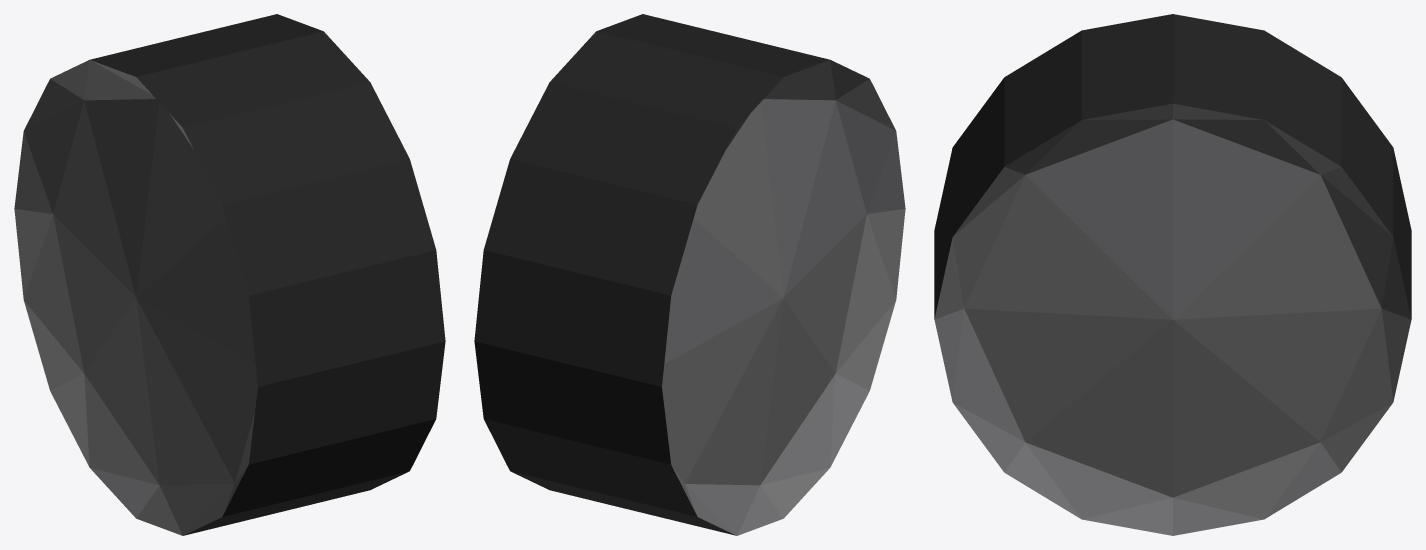
The model's file is wheel_1.glb.
The picture shows the model from 3 angles, left to right: view 1: azimuth 30°, elevation 25°; view 2: azimuth 150°, elevation 25°; view 3: azimuth 270°, elevation 25°; orthographic projection. The views are drawn at different scales.
Visible parts, largest first — view 1: vehicles/wheel_1; view 2: vehicles/wheel_1; view 3: vehicles/wheel_1.
Boxes of the visible parts, left/top/right/bottom form: vehicles/wheel_1: left=14, top=14, right=445, bottom=535; vehicles/wheel_1: left=474, top=14, right=905, bottom=535; vehicles/wheel_1: left=934, top=14, right=1411, bottom=535.
Bounding box in the file's own units: 0.25 × 0.5625 × 0.5625.
1 material, 1 textured.
